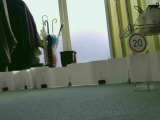speed_20: (124, 32, 149, 52)
